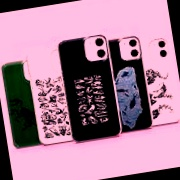iphone: (62, 37, 114, 142)
